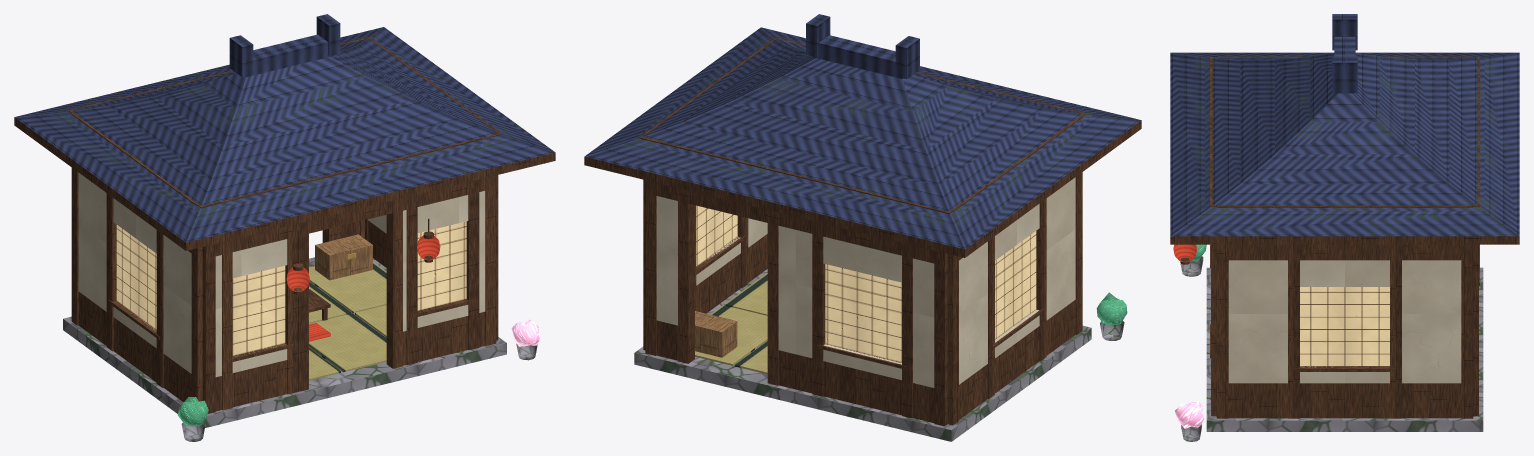
File: house_small.gltf
3 renders of one model, left to right at view 1: azimuth 30°, elevation 25°; view 2: azimuth 150°, elevation 25°; view 3: azimuth 270°, elevation 25°, orthographic. The views are drawn at different scales.
Visible parts, largest first — view 1: Building; view 2: Building; view 3: Building.
Part boxes in pixels (x1,y1,x2,y2): Building: (14,14,555,441); Building: (584,14,1141,441); Building: (1170,14,1519,441).
Bounding box in the file's own units: 10.2 × 8.22 × 8.2.
Materials: 13 (13 with a texture image).
